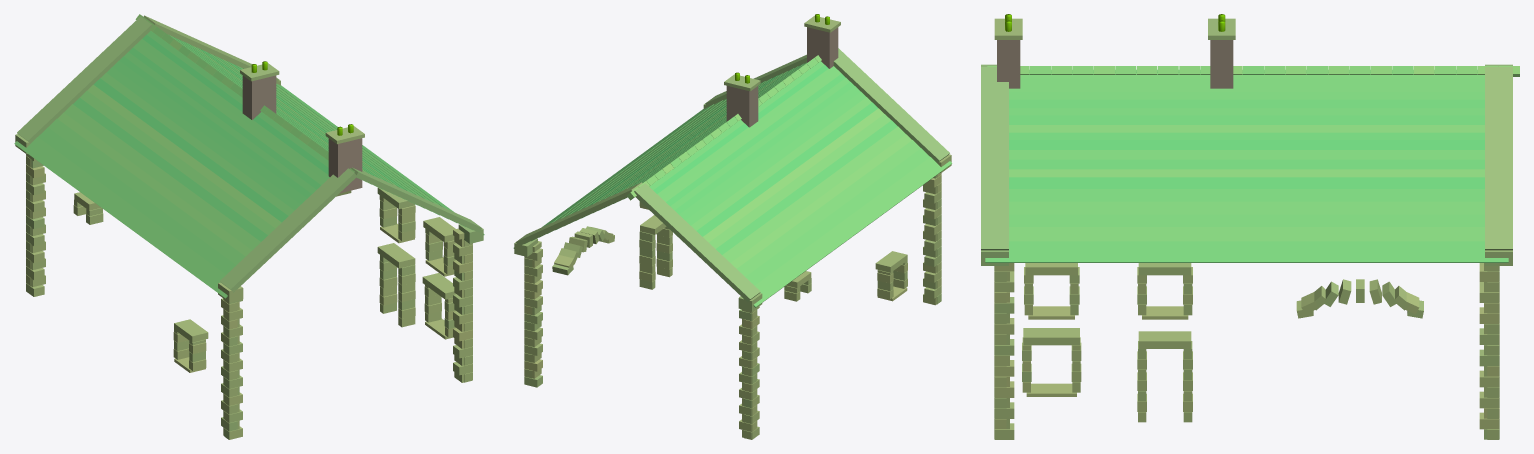
File: SM_Bld_014_Stone.glb
3 renders of one model, left to right at view 1: azimuth 30°, elevation 25°; view 2: azimuth 150°, elevation 25°; view 3: azimuth 270°, elevation 25°, orthographic. The views are drawn at different scales.
Visible parts, largest first — view 1: SM_Bld_014_Stone; view 2: SM_Bld_014_Stone; view 3: SM_Bld_014_Stone.
Part boxes in pixels (x1=…): SM_Bld_014_Stone: x1=14, y1=14, x2=484, y2=439; SM_Bld_014_Stone: x1=513, y1=14, x2=952, y2=439; SM_Bld_014_Stone: x1=981, y1=14, x2=1519, y2=439.
Size of the model in its own units: 9.61 by 9.89 by 13.9.
